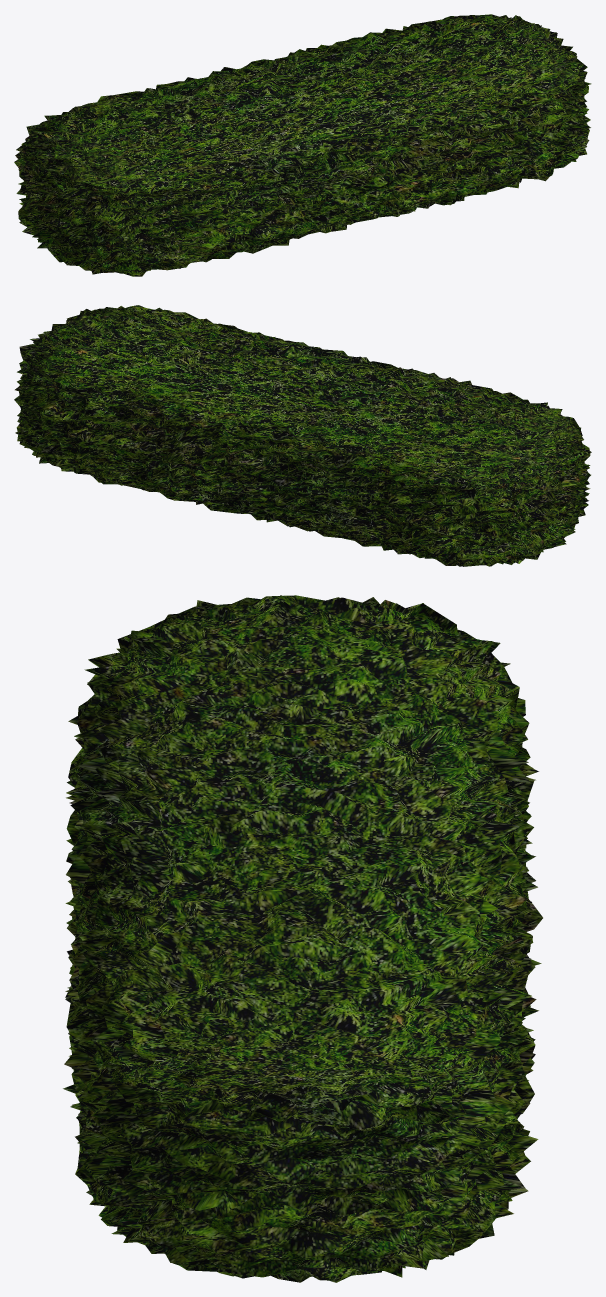
The model's file is hedgePiece.glb.
3 views of the same model, one above another, from view 1: azimuth 30°, elevation 25°; view 2: azimuth 150°, elevation 25°; view 3: azimuth 270°, elevation 25° (orthographic). The views are drawn at different scales.
Parts seen in each view (by area): view 1: Object_2; view 2: Object_2; view 3: Object_2.
Part boxes in pixels (x1=…): Object_2: x1=14, y1=14, x2=591, y2=276; Object_2: x1=14, y1=305, x2=591, y2=566; Object_2: x1=63, y1=595, x2=542, y2=1282.
Bounding box in the file's own units: 13.92 × 2.92 × 5.36.
1 material, 1 textured.
